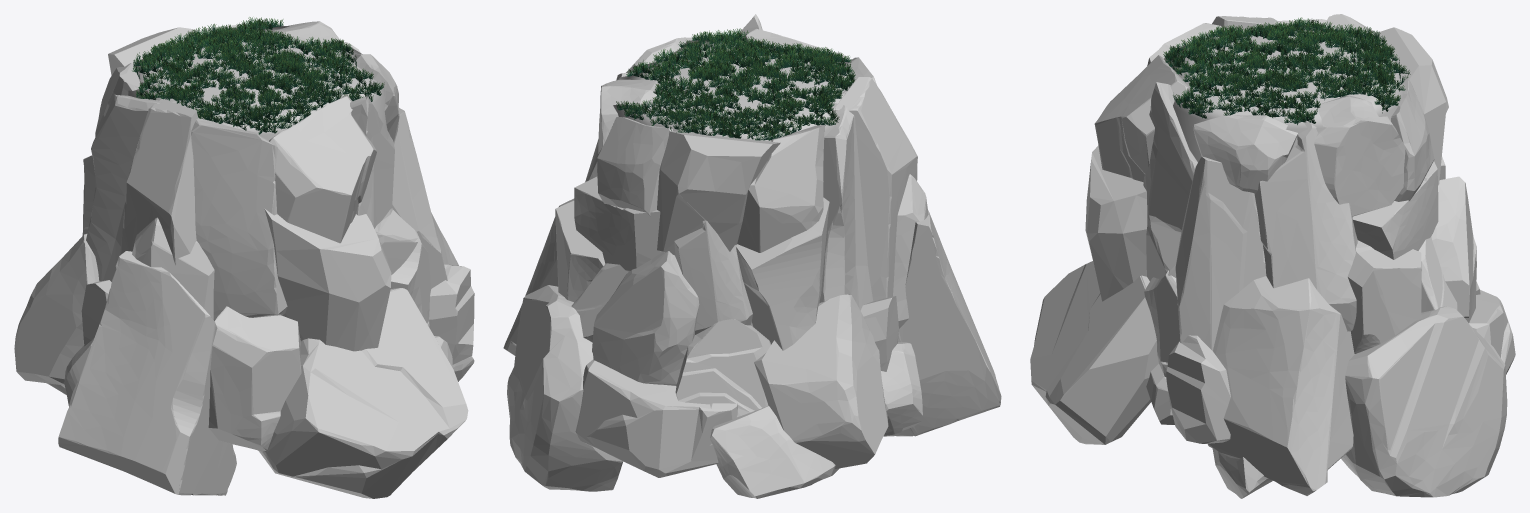
Rendered from sm_uv_3x_terrace1.fbx.
The picture shows the model from 3 angles, left to right: view 1: azimuth 30°, elevation 25°; view 2: azimuth 150°, elevation 25°; view 3: azimuth 270°, elevation 25°; orthographic projection.
Visible parts, largest first — view 1: grass3x; view 2: grass3x; view 3: grass3x.
Part boxes in pixels (bbox=[...]): grass3x: bbox=[14, 17, 474, 498]; grass3x: bbox=[503, 14, 1001, 498]; grass3x: bbox=[1030, 14, 1515, 498].
Size of the model in its own units: 941 by 761 by 866.
